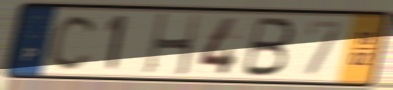1: (104, 13, 129, 74)
4: (196, 15, 239, 77)
7: (303, 18, 344, 78)
B: (239, 15, 297, 79)
C: (46, 12, 102, 73)
H: (142, 12, 203, 78)
